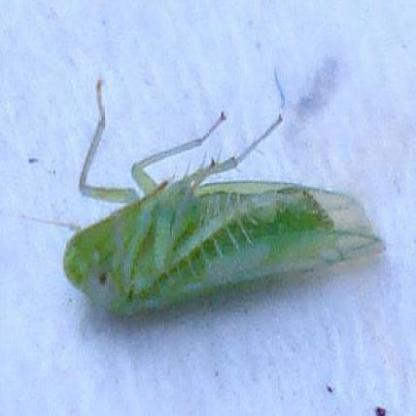green-leafhopper: (61, 74, 385, 317)
